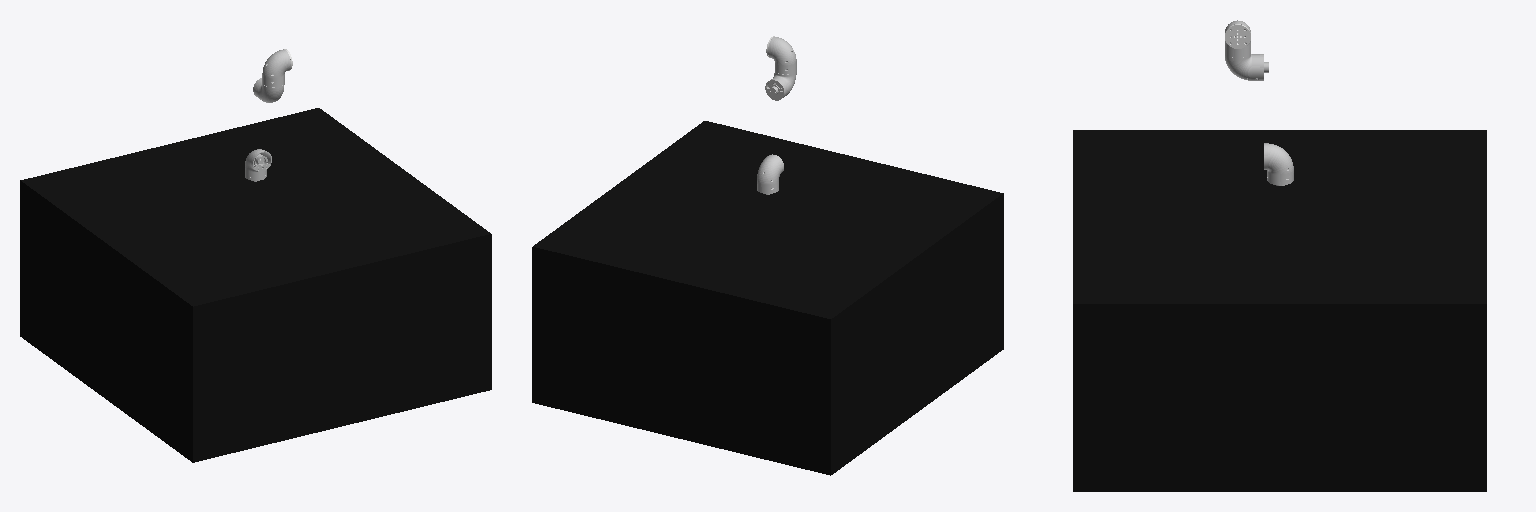
URDF robot description (wormy_arm_robot):
<?xml version="1.0" encoding="utf-8" ?>
<!-- =================================================================================== -->
<!-- |    This document was autogenerated by xacro from [local-path]/catkin_ws/src/wormy_arm/wormy_arm_description/urdf/wormy_arm_onbox.xacro | -->
<!-- |    EDITING THIS FILE BY HAND IS NOT RECOMMENDED                                 | -->
<!-- =================================================================================== -->
<robot name="wormy_arm_robot">
    <!-- wormy_arm -->
    <link name="base_link" />
    <link name="wormy_arm_base_link" />
    <joint name="wormy_arm_base_link_to_base" type="fixed">
        <parent link="wormy_arm_base_link" />
        <child link="wormy_arm_case" />
        <origin rpy="0.0 0 0" xyz="0 0 0" />
    </joint>
    <link name="wormy_arm_case">
        <visual>
            <origin rpy="0 -0 0" xyz="0 0 0" />
            <geometry>
                <mesh filename="package://wormy_arm_description/urdf/raw/joint_0_visual.stl" />
            </geometry>
            <material name="joint_0_material">
                <color rgba="0.817881 0.836208 0.852695 1.0" />
            </material>
        </visual>
        <collision>
            <origin rpy="0 -0 0" xyz="0 0 0" />
            <geometry>
                <mesh filename="package://wormy_arm_description/urdf/raw/joint_0_collision.stl" />
            </geometry>
            <material name="joint_0_material">
                <color rgba="0.5 0.5 0.5 1.0" />
            </material>
        </collision>
        
<inertial>
            <origin rpy="0 0 0" xyz="0.0059763 0.0125469 0.0329924" />
            <mass value="0.329343" />
            <inertia ixx="0.000437093" ixy="-2.32247e-05" ixz="4.16777e-05" iyy="0.000408938" iyz="-9.64991e-06" izz="0.000369942" />
        </inertial>

    </link>
    <link name="wormy_arm_link_1">
        <visual>
            <origin rpy="0 -0 0" xyz="0 0 0" />
            <geometry>
                <mesh filename="package://wormy_arm_description/urdf/raw/joint_1_visual.stl" />
            </geometry>
            <material name="joint_1_material">
                <color rgba="0.799704 0.80046 0.803592 1.0" />
            </material>
        </visual>
        <collision>
            <origin rpy="0 -0 0" xyz="0 0 0" />
            <geometry>
                <mesh filename="package://wormy_arm_description/urdf/raw/joint_1_collision.stl" />
            </geometry>
            <material name="joint_1_material">
                <color rgba="0.5 0.5 0.5 1.0" />
            </material>
        </collision>
        
<inertial>
            <origin rpy="0 0 0" xyz="1.21246e-05 -0.00651843 -0.0502915" />
            <mass value="0.192291" />
            <inertia ixx="0.000177516" ixy="1.6057e-08" ixz="7.72555e-09" iyy="0.000164493" iyz="-3.22981e-05" izz="0.000113033" />
        </inertial>

    </link>
    <link name="wormy_arm_link_2">
        <visual>
            <origin rpy="0 -0 0" xyz="0 0 0" />
            <geometry>
                <mesh filename="package://wormy_arm_description/urdf/raw/joint_2_visual.stl" />
            </geometry>
            <material name="joint_2_material">
                <color rgba="0.853971 0.854912 0.858811 1.0" />
            </material>
        </visual>
        <collision>
            <origin rpy="0 -0 0" xyz="0 0 0" />
            <geometry>
                <mesh filename="package://wormy_arm_description/urdf/raw/joint_2_collision.stl" />
            </geometry>
            <material name="joint_2_material">
                <color rgba="0.5 0.5 0.5 1.0" />
            </material>
        </collision>
        
<inertial>
            <origin rpy="0 0 0" xyz="2.09617e-05 -0.0657069 -0.0594829" />
            <mass value="0.370781" />
            <inertia ixx="0.00124541" ixy="7.56741e-08" ixz="-2.32197e-08" iyy="0.000331076" iyz="-0.000163069" izz="0.00114896" />
        </inertial>

    </link>
    <link name="wormy_arm_link_3">
        <visual>
            <origin rpy="0 -0 0" xyz="0 0 0" />
            <geometry>
                <mesh filename="package://wormy_arm_description/urdf/raw/joint_3_visual.stl" />
            </geometry>
            <material name="joint_3_material">
                <color rgba="0.844127 0.845213 0.849714 1.0" />
            </material>
        </visual>
        <collision>
            <origin rpy="0 -0 0" xyz="0 0 0" />
            <geometry>
                <mesh filename="package://wormy_arm_description/urdf/raw/joint_3_collision.stl" />
            </geometry>
            <material name="joint_3_material">
                <color rgba="0.5 0.5 0.5 1.0" />
            </material>
        </collision>
        
<inertial>
            <origin rpy="0 0 0" xyz="1.5072e-05 -0.0502234 -0.0574874" />
            <mass value="0.321132" />
            <inertia ixx="0.00078854" ixy="5.93035e-08" ixz="-7.35249e-10" iyy="0.000288245" iyz="-0.000126739" izz="0.000700904" />
        </inertial>

    </link>
    <link name="wormy_arm_link_4">
        <visual>
            <origin rpy="0 -0 0" xyz="0 0 0" />
            <geometry>
                <mesh filename="package://wormy_arm_description/urdf/raw/joint_4_visual.stl" />
            </geometry>
            <material name="joint_4_material">
                <color rgba="0.799704 0.80046 0.803592 1.0" />
            </material>
        </visual>
        <collision>
            <origin rpy="0 -0 0" xyz="0 0 0" />
            <geometry>
                <mesh filename="package://wormy_arm_description/urdf/raw/joint_4_collision.stl" />
            </geometry>
            <material name="joint_4_material">
                <color rgba="0.5 0.5 0.5 1.0" />
            </material>
        </collision>
        
<inertial>
            <origin rpy="0 0 0" xyz="1.21246e-05 -0.00651843 -0.0502915" />
            <mass value="0.192291" />
            <inertia ixx="0.000177516" ixy="1.6057e-08" ixz="7.72555e-09" iyy="0.000164493" iyz="-3.22981e-05" izz="0.000113033" />
        </inertial>

    </link>
    <link name="wormy_arm_link_5">
        <visual>
            <origin rpy="0 -0 0" xyz="0 0 0" />
            <geometry>
                <mesh filename="package://wormy_arm_description/urdf/raw/joint_5_visual.stl" />
            </geometry>
            <material name="joint_5_material">
                <color rgba="0.799704 0.80046 0.803592 1.0" />
            </material>
        </visual>
        <collision>
            <origin rpy="0 -0 0" xyz="0 0 0" />
            <geometry>
                <mesh filename="package://wormy_arm_description/urdf/raw/joint_5_collision.stl" />
            </geometry>
            <material name="joint_5_material">
                <color rgba="0.5 0.5 0.5 1.0" />
            </material>
        </collision>
        
<inertial>
            <origin rpy="0 0 0" xyz="1.21246e-05 -0.00691252 -0.0502915" />
            <mass value="0.192291" />
            <inertia ixx="0.000178174" ixy="1.63035e-08" ixz="7.72555e-09" iyy="0.000164493" iyz="-3.29513e-05" izz="0.00011369" />
        </inertial>

    </link>
    <link name="wormy_arm_ee">
        <visual>
            <origin rpy="0 -0 0" xyz="0 0 0" />
            <geometry>
                <mesh filename="package://wormy_arm_description/urdf/raw/joint_connector_a2_visual.stl" />
            </geometry>
            <material name="joint_connector_a2_material">
                <color rgba="0.917647 0.917647 0.917647 1.0" />
            </material>
        </visual>
        <collision>
            <origin rpy="0 -0 0" xyz="0 0 0" />
            <geometry>
                <mesh filename="package://wormy_arm_description/urdf/raw/joint_connector_a2_collision.stl" />
            </geometry>
            <material name="joint_connector_a2_material">
                <color rgba="0.5 0.5 0.5 1.0" />
            </material>
        </collision>
        
<inertial>
            <origin rpy="0 0 0" xyz="1.14754e-18 5.6599e-06 -0.0118831" />
            <mass value="0.0234539" />
            <inertia ixx="5.31243e-06" ixy="-2.09537e-36" ixz="-2.05025e-10" iyy="5.31245e-06" iyz="2.85876e-10" izz="9.79132e-06" />
        </inertial>

    </link>
    <joint name="wormy_arm_joint_5" type="revolute">
        <origin rpy="-1.5708 -1.5708 0" xyz="-2.77556e-17 -0.02937 -0.074" />
        <parent link="wormy_arm_link_5" />
        <child link="wormy_arm_ee" />
        <axis xyz="0 0 1" />
        <limit effort="1.5" lower="-3.14" upper="3.14" velocity="3.14" />
        <joint_properties friction="0.0" />
    </joint>
    <joint name="wormy_arm_joint_4" type="revolute">
        <origin rpy="-1.5708 1.5708 0" xyz="-7.49184e-17 -0.02887 -0.074" />
        <parent link="wormy_arm_link_4" />
        <child link="wormy_arm_link_5" />
        <axis xyz="0 0 1" />
        <limit effort="1.5" lower="-3.14" upper="3.14" velocity="3.14" />
        <joint_properties friction="0.0" />
    </joint>
    <joint name="wormy_arm_joint_3" type="revolute">
        <origin rpy="3.14159 -1.43376e-15 -3.14159" xyz="-1.97569e-16 -0.10387 -0.04483" />
        <parent link="wormy_arm_link_3" />
        <child link="wormy_arm_link_4" />
        <axis xyz="0 0 1" />
        <limit effort="1.5" lower="-3.14" upper="3.14" velocity="3.14" />
        <joint_properties friction="0.0" />
    </joint>
    <joint name="wormy_arm_joint_2" type="revolute">
        <origin rpy="-3.14159 -2.16934e-16 3.14159" xyz="5.37764e-17 -0.13387 -0.04463" />
        <parent link="wormy_arm_link_2" />
        <child link="wormy_arm_link_3" />
        <axis xyz="0 0 1" />
        <limit effort="1.5" lower="-3.14" upper="3.14" velocity="3.14" />
        <joint_properties friction="0.0" />
    </joint>
    <joint name="wormy_arm_joint_1" type="revolute">
        <origin rpy="1.5708 -1.0842e-19 3.14159" xyz="2.36085e-16 -0.02887 -0.074" />
        <parent link="wormy_arm_link_1" />
        <child link="wormy_arm_link_2" />
        <axis xyz="0 0 1" />
        <limit effort="1.5" lower="-3.14" upper="3.14" velocity="3.14" />
        <joint_properties friction="0.0" />
    </joint>
    <joint name="wormy_arm_joint_0" type="revolute">
        <origin rpy="-3.14159 -4.31408e-32 -3.14159" xyz="-0.00020294 0.000945844 0.08702" />
        <parent link="wormy_arm_case" />
        <child link="wormy_arm_link_1" />
        <axis xyz="0 0 1" />
        <limit effort="1.5" lower="-3.14" upper="3.14" velocity="3.14" />
        <joint_properties friction="0.0" />
    </joint>
    <link name="box_link">
        <visual>
            <origin rpy="0 0 0" xyz="0 0 0" />
            <geometry>
                <box size="1 1 0.5" />
            </geometry>
            <material name="black">
                <color rgba="0.1 0.1 0.1 2.0" />
            </material>
        </visual>
    </link>
    <joint name="base2box_joint" type="fixed">
        <parent link="base_link" />
        <child link="box_link" />
        <origin rpy="0.0 0 0" xyz="0 0 0.25" />
    </joint>
    <joint name="box2arm_joint" type="fixed">
        <parent link="box_link" />
        <child link="wormy_arm_base_link" />
        <origin rpy="0.0 0 0" xyz="0 0 0.25" />
    </joint>
    
<transmission name="trans_wormy_arm_joint_5">
        <type>transmission_interface/SimpleTransmission</type>
        <joint name="wormy_arm_joint_5">
            <hardwareInterface>hardware_interface/EffortJointInterface</hardwareInterface>
        </joint>
        <actuator name="wormy_arm_joint_5_motor">
            <hardwareInterface>hardware_interface/EffortJointInterface</hardwareInterface>
            <mechanicalReduction>1</mechanicalReduction>
        </actuator>
    </transmission>
    <transmission name="trans_wormy_arm_joint_4">
        <type>transmission_interface/SimpleTransmission</type>
        <joint name="wormy_arm_joint_4">
            <hardwareInterface>hardware_interface/EffortJointInterface</hardwareInterface>
        </joint>
        <actuator name="wormy_arm_joint_4_motor">
            <hardwareInterface>hardware_interface/EffortJointInterface</hardwareInterface>
            <mechanicalReduction>1</mechanicalReduction>
        </actuator>
    </transmission>
    <transmission name="trans_wormy_arm_joint_3">
        <type>transmission_interface/SimpleTransmission</type>
        <joint name="wormy_arm_joint_3">
            <hardwareInterface>hardware_interface/EffortJointInterface</hardwareInterface>
        </joint>
        <actuator name="wormy_arm_joint_3_motor">
            <hardwareInterface>hardware_interface/EffortJointInterface</hardwareInterface>
            <mechanicalReduction>1</mechanicalReduction>
        </actuator>
    </transmission>
    <transmission name="trans_wormy_arm_joint_2">
        <type>transmission_interface/SimpleTransmission</type>
        <joint name="wormy_arm_joint_2">
            <hardwareInterface>hardware_interface/EffortJointInterface</hardwareInterface>
        </joint>
        <actuator name="wormy_arm_joint_2_motor">
            <hardwareInterface>hardware_interface/EffortJointInterface</hardwareInterface>
            <mechanicalReduction>1</mechanicalReduction>
        </actuator>
    </transmission>
    <transmission name="trans_wormy_arm_joint_1">
        <type>transmission_interface/SimpleTransmission</type>
        <joint name="wormy_arm_joint_1">
            <hardwareInterface>hardware_interface/EffortJointInterface</hardwareInterface>
        </joint>
        <actuator name="wormy_arm_joint_1_motor">
            <hardwareInterface>hardware_interface/EffortJointInterface</hardwareInterface>
            <mechanicalReduction>1</mechanicalReduction>
        </actuator>
    </transmission>
    <transmission name="trans_wormy_arm_joint_0">
        <type>transmission_interface/SimpleTransmission</type>
        <joint name="wormy_arm_joint_0">
            <hardwareInterface>hardware_interface/EffortJointInterface</hardwareInterface>
        </joint>
        <actuator name="wormy_arm_joint_0_motor">
            <hardwareInterface>hardware_interface/EffortJointInterface</hardwareInterface>
            <mechanicalReduction>1</mechanicalReduction>
        </actuator>
    </transmission>
    <gazebo>
        <plugin name="gazebo_ros_control" filename="libgazebo_ros_control.so">
            <robotNamespace>/</robotNamespace>
        </plugin>
    </gazebo>
</robot>

--- What the picture shows (computed from the rendered views, not written in the file) ---
The picture shows the robot from 3 angles, left to right: view 1: azimuth 30°, elevation 25°; view 2: azimuth 150°, elevation 25°; view 3: azimuth 270°, elevation 25°; orthographic projection.
Robot: wormy_arm_robot — 10 links, 9 joints (6 revolute, 3 fixed); root link base_link; default pose: all joints at 0.
Links seen in each view (by area): view 1: box_link, wormy_arm_link_5, wormy_arm_link_1; view 2: box_link, wormy_arm_link_1, wormy_arm_link_5, wormy_arm_link_4; view 3: box_link, wormy_arm_link_1, wormy_arm_link_4.
Link boxes in pixels (bbox=[...]): box_link: bbox=[20, 108, 491, 462]; wormy_arm_link_5: bbox=[262, 49, 290, 86]; wormy_arm_link_1: bbox=[245, 149, 271, 181]; box_link: bbox=[532, 121, 1003, 475]; wormy_arm_link_1: bbox=[757, 154, 783, 194]; wormy_arm_link_5: bbox=[768, 37, 796, 74]; wormy_arm_link_4: bbox=[765, 71, 796, 100]; box_link: bbox=[1073, 130, 1486, 491]; wormy_arm_link_1: bbox=[1264, 143, 1293, 185]; wormy_arm_link_4: bbox=[1225, 54, 1268, 80].
Bounding box of the posed robot: 1 × 1 × 1.03 m (x, y, z).
Meshes: 7 distinct files referenced, 4 mesh visuals loaded (4 binary STL); not drawn: 3 (reference not matched to a file when rendering).